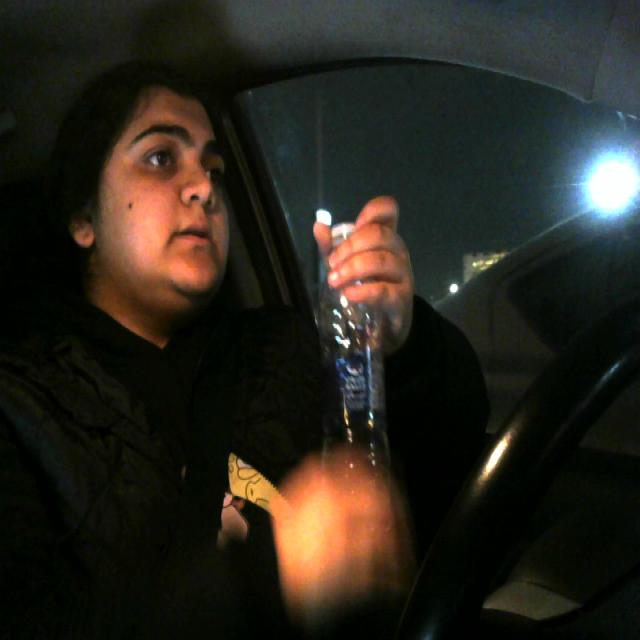drinking: (313, 202, 394, 504)
